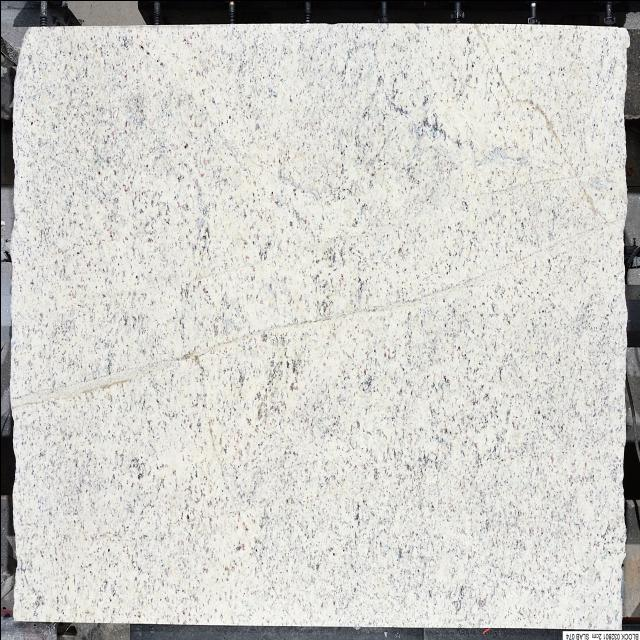chapa: (10, 23, 628, 627)
